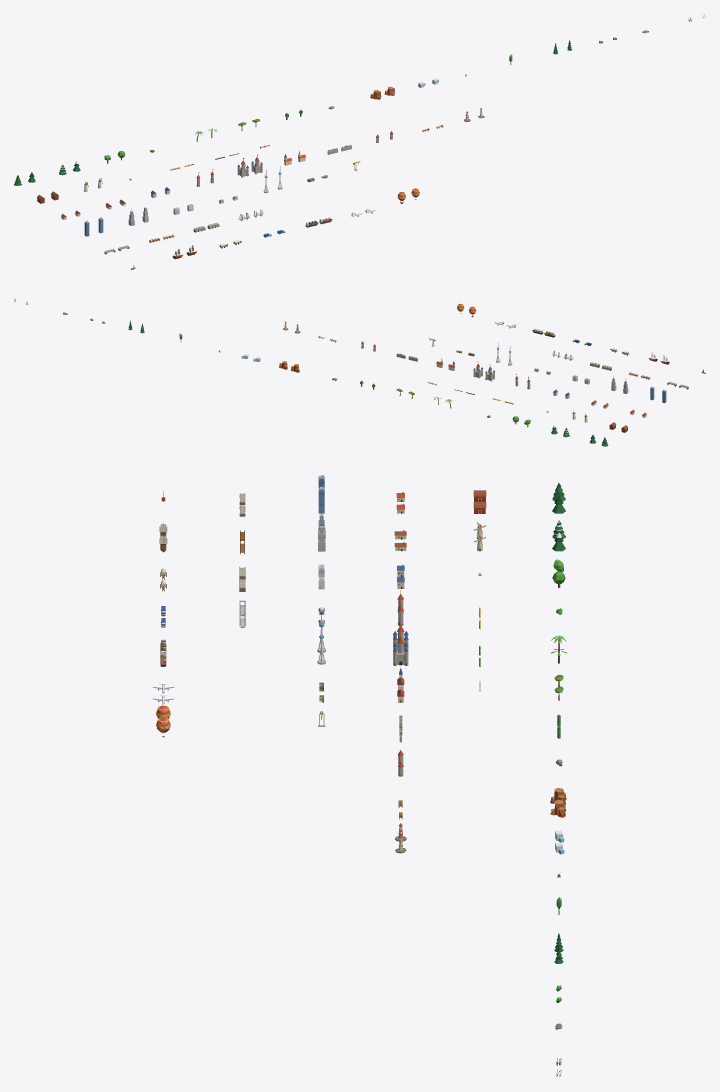
The model's file is assets.glb.
3 renders of one model, top to bottom at view 1: azimuth 30°, elevation 25°; view 2: azimuth 150°, elevation 25°; view 3: azimuth 270°, elevation 25°, orthographic. The views are drawn at different scales.
Bounding box in the file's own units: 69.55 × 2.23 × 20.97.
